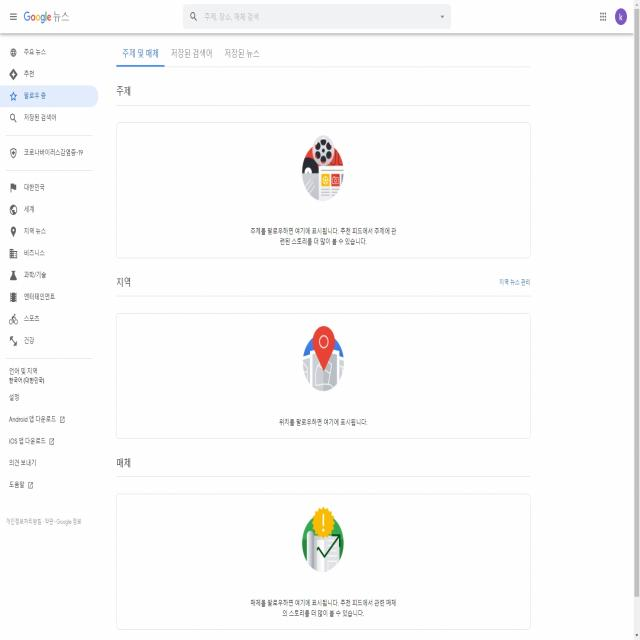menu-bar: (593, 2, 630, 29)
menu-panel: (115, 34, 266, 67)
search: (181, 2, 452, 31)
